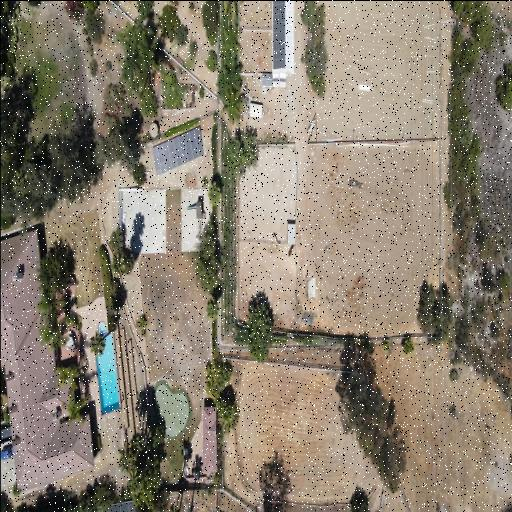solar-panel: (151, 125, 203, 176), (272, 0, 285, 69), (101, 499, 137, 512)
